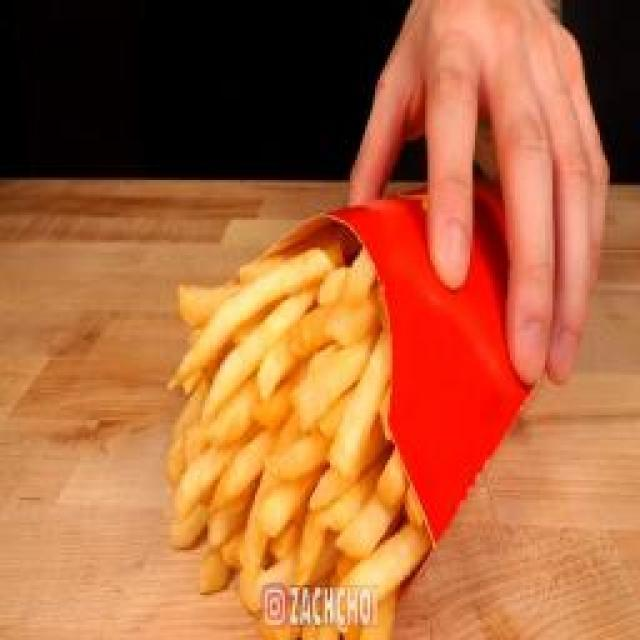french fries: (153, 185, 466, 640)
